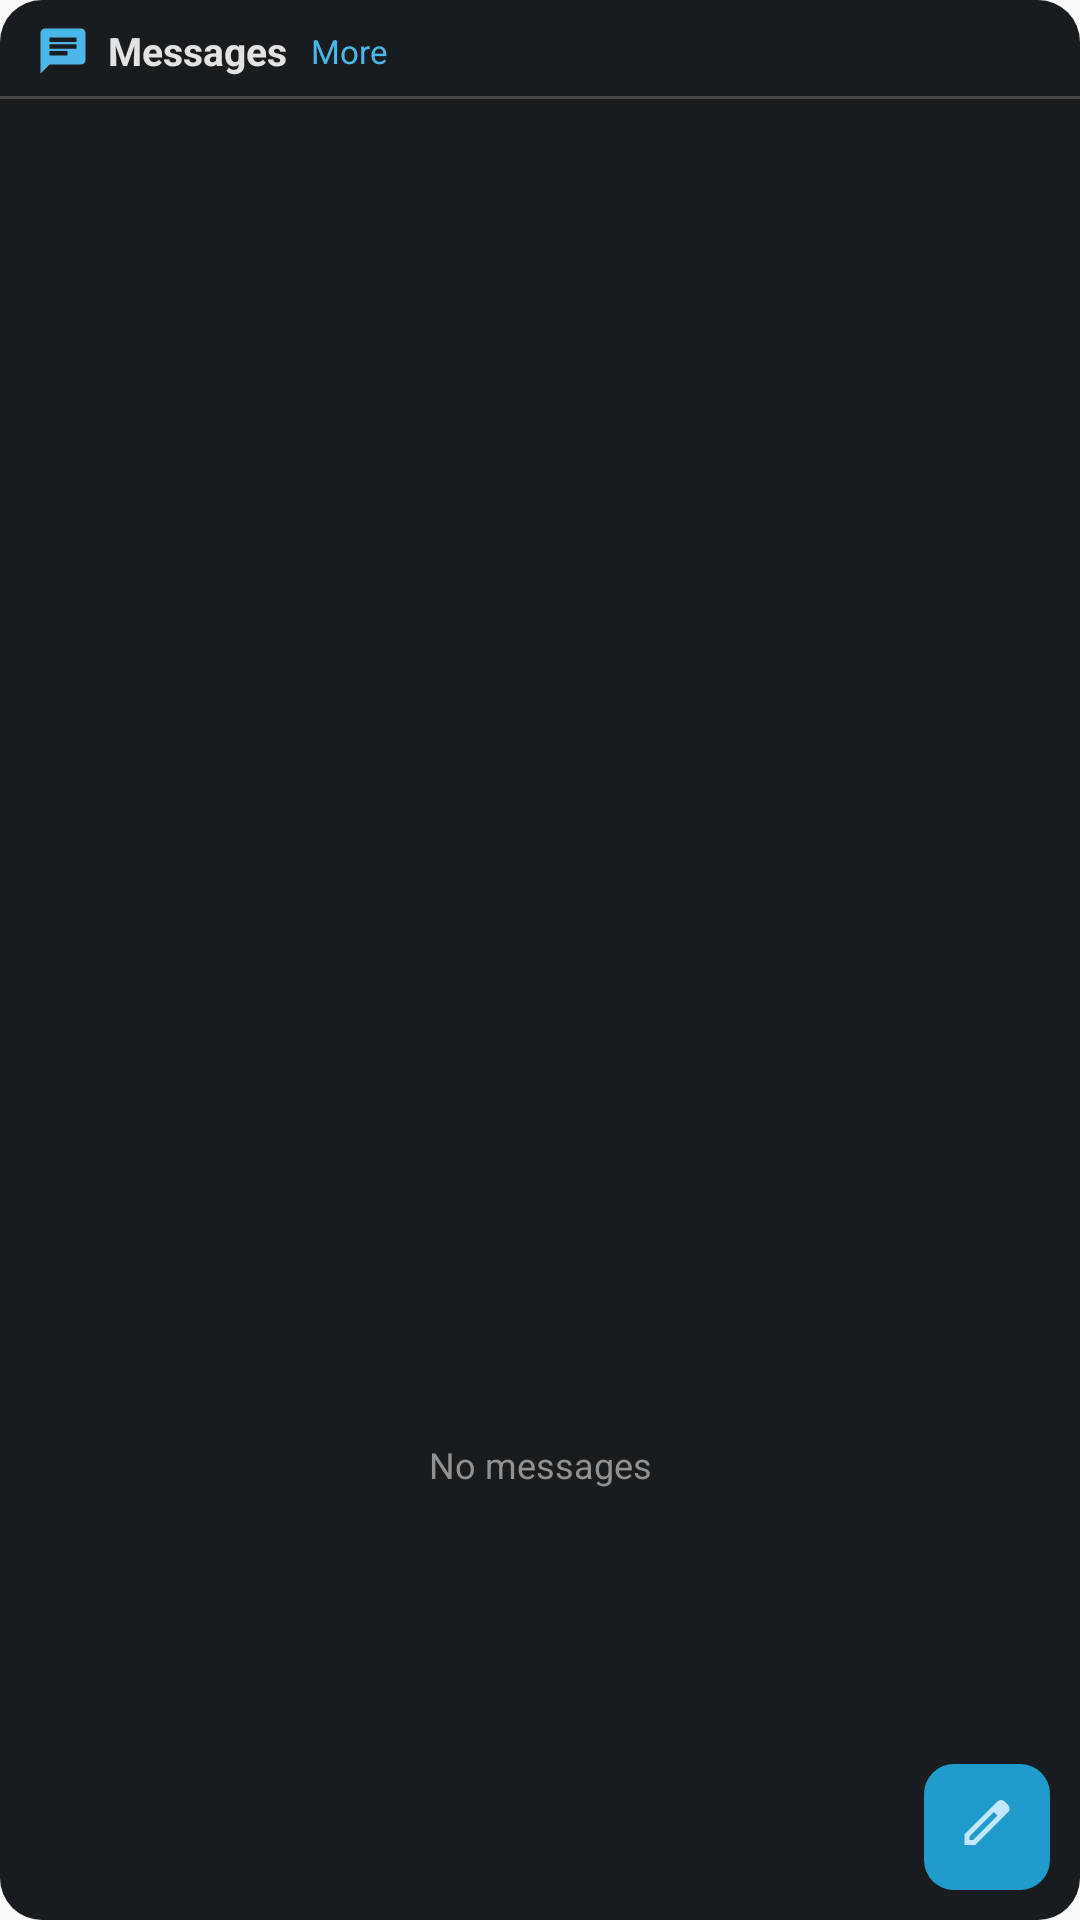

Named icons in this screenshot (1080w x 1920h) and their bounding boxes, (x1, y1, x2, y2):
New message: (924, 1764, 1050, 1890)
